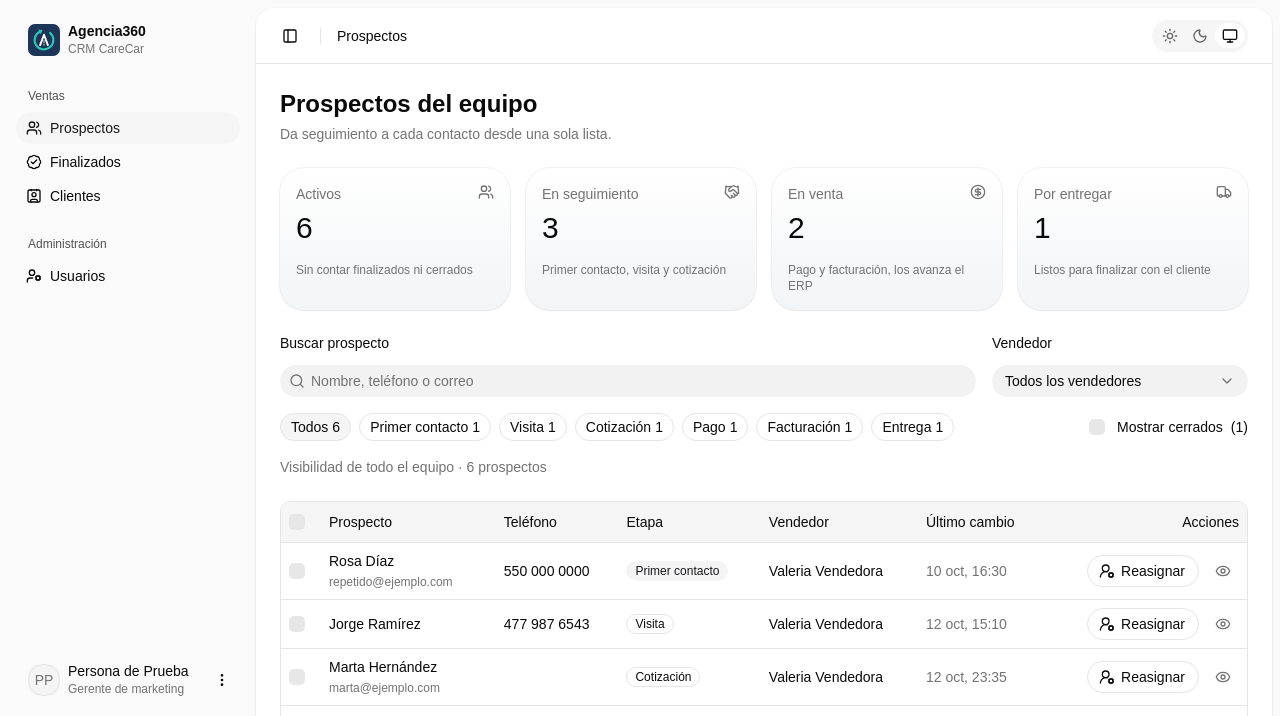
Scenario: Reasignación de prospectos › pide elegir un vendedor antes de reasignar
Click the button with aria-label "Reasignar a Rosa Díaz".
click(1143, 571)  # box x1=1087 y1=555 x2=1199 y2=587
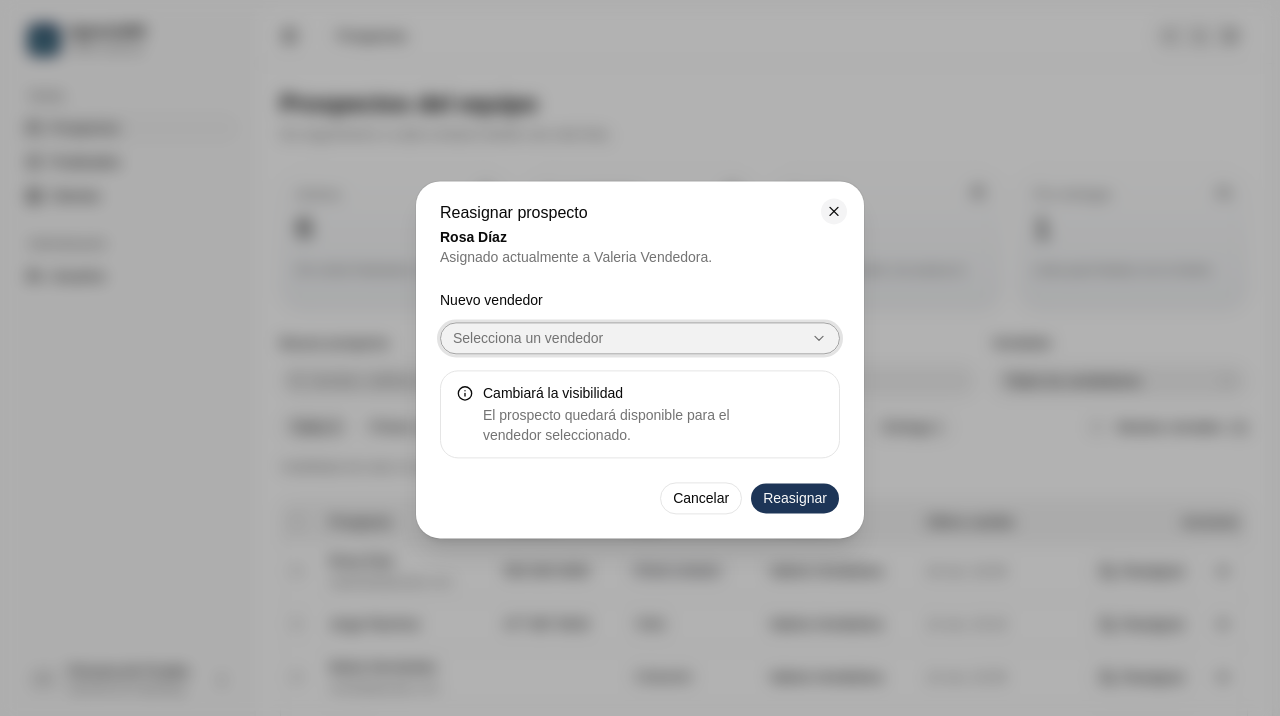
Click the button "Reasignar".
click(795, 499)  # box x1=750 y1=483 x2=840 y2=515
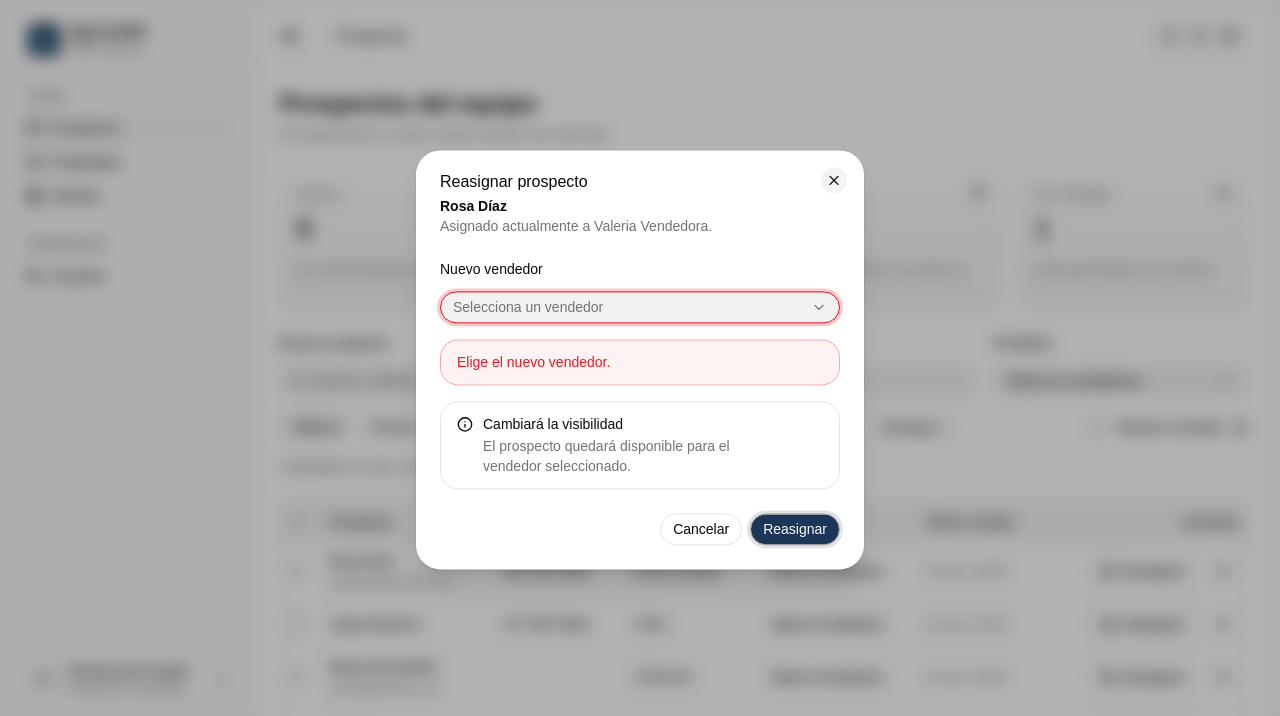
expect the text "Elige el nuevo vendedor." is shown: met, box x1=457 y1=355 x2=610 y2=371
